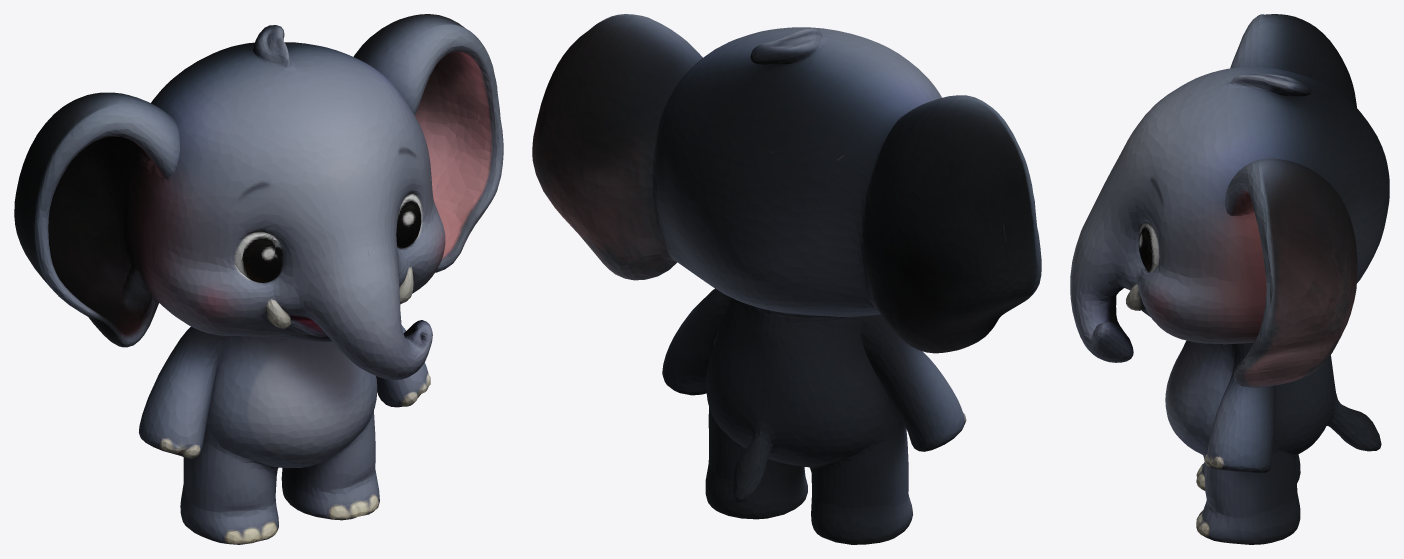
Rendered from elephant.glb.
3 renders of one model, left to right at view 1: azimuth 30°, elevation 25°; view 2: azimuth 150°, elevation 25°; view 3: azimuth 270°, elevation 25°, orthographic. The views are drawn at different scales.
Parts seen in each view (by area): view 1: world; view 2: world; view 3: world.
Part boxes in pixels (x1,y1,x2,y2): world: (14, 14, 503, 544); world: (532, 14, 1041, 544); world: (1070, 14, 1389, 544).
Size of the model in its own units: 0.9989 by 0.9504 by 0.6367.
1 material, 1 textured.
